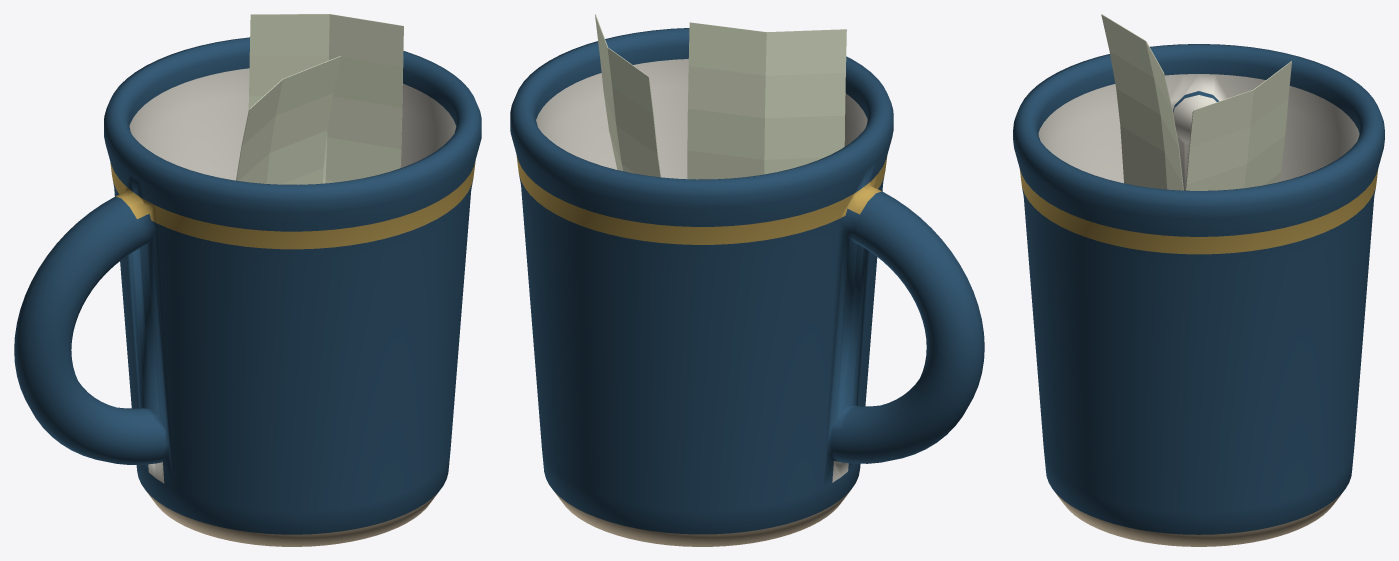
Rendered from tip-mug.glb.
3 views of the same model, side by side, from view 1: azimuth 30°, elevation 25°; view 2: azimuth 150°, elevation 25°; view 3: azimuth 270°, elevation 25° (orthographic). The views are drawn at different scales.
Visible parts, largest first — view 1: Mug continuous body, Folded generic tip note 2, Folded generic tip note 1; view 2: Mug continuous body, Folded generic tip note 1, Folded generic tip note 2; view 3: Mug continuous body, Folded generic tip note 2, Folded generic tip note 1.
Part boxes in pixels (left/top/right/bottom): Mug continuous body: left=14, top=37, right=481, bottom=546; Folded generic tip note 2: left=248, top=14, right=403, bottom=183; Folded generic tip note 1: left=236, top=56, right=340, bottom=184; Mug continuous body: left=510, top=28, right=984, bottom=546; Folded generic tip note 1: left=687, top=22, right=846, bottom=179; Folded generic tip note 2: left=595, top=14, right=661, bottom=177; Mug continuous body: left=1013, top=44, right=1384, bottom=546; Folded generic tip note 2: left=1185, top=61, right=1291, bottom=190; Folded generic tip note 1: left=1101, top=14, right=1183, bottom=190.
Bounding box in the file's own units: 0.442 × 0.4201 × 0.33.
